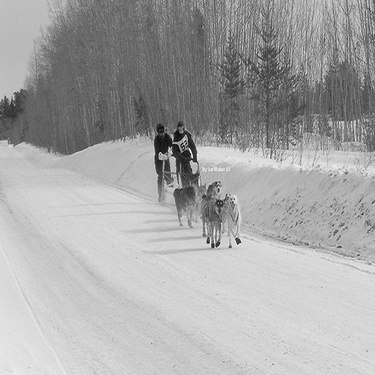dog: (170, 175, 203, 232), (199, 196, 226, 251), (224, 190, 242, 250), (207, 176, 227, 202), (196, 175, 207, 200), (223, 189, 232, 210)
